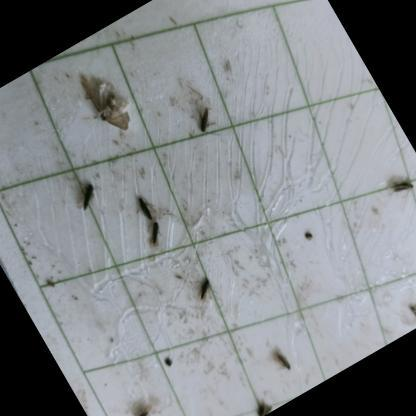prays_oleae: (66, 57, 146, 152), (180, 96, 226, 148), (65, 170, 111, 221), (187, 266, 228, 313), (267, 335, 301, 374), (383, 169, 416, 208), (139, 218, 172, 254), (128, 189, 156, 223), (245, 391, 276, 416), (125, 394, 160, 416), (400, 294, 416, 329)
